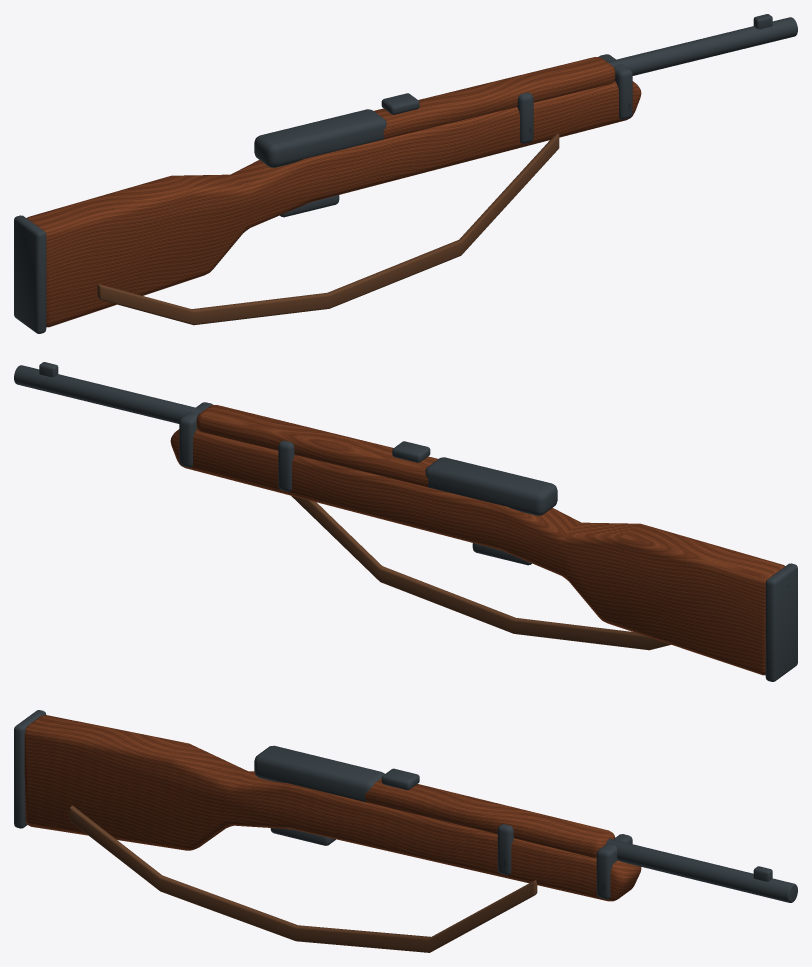
File: kar98k-exterior-wip-repeat.glb
3 renders of one model, top to bottom at view 1: azimuth 30°, elevation 25°; view 2: azimuth 150°, elevation 25°; view 3: azimuth 330°, elevation 25°, orthographic.
Parts seen in each view (by area): view 1: stock_shell, sling_visual, upper_wood_cover, closed_upper_metal_shell, solid_front_visual_no_bore, butt_cap, decorative_band.001, decorative_band, rear_top_visual_tab; view 2: stock_shell, upper_wood_cover, sling_visual, closed_upper_metal_shell, solid_front_visual_no_bore, butt_cap, decorative_band.001, decorative_band, rear_top_visual_tab; view 3: stock_shell, sling_visual, upper_wood_cover, closed_upper_metal_shell, solid_front_visual_no_bore, butt_cap, decorative_band.001, decorative_band, rear_top_visual_tab, underside_solid_detail.
Boxes of the visible parts, x1,y1,x2,y2 form: stock_shell: (26, 81, 641, 327); sling_visual: (97, 133, 559, 325); upper_wood_cover: (374, 57, 615, 139); closed_upper_metal_shell: (254, 109, 386, 167); solid_front_visual_no_bore: (607, 17, 797, 75); butt_cap: (14, 215, 46, 333); decorative_band.001: (598, 54, 632, 119); decorative_band: (517, 92, 533, 143); rear_top_visual_tab: (381, 93, 419, 114); stock_shell: (170, 429, 785, 675); upper_wood_cover: (196, 405, 437, 487); sling_visual: (291, 495, 670, 650); closed_upper_metal_shell: (425, 457, 557, 515); solid_front_visual_no_bore: (14, 365, 204, 423); butt_cap: (765, 563, 797, 681); decorative_band.001: (179, 402, 213, 467); decorative_band: (278, 440, 294, 491); rear_top_visual_tab: (392, 441, 430, 462); stock_shell: (24, 715, 641, 901); sling_visual: (69, 805, 537, 952); upper_wood_cover: (365, 778, 615, 857); closed_upper_metal_shell: (254, 745, 384, 802); solid_front_visual_no_bore: (606, 839, 797, 902); butt_cap: (14, 710, 46, 828); decorative_band.001: (596, 834, 632, 899); decorative_band: (497, 824, 513, 875); rear_top_visual_tab: (381, 768, 419, 790); underside_solid_detail: (270, 828, 335, 845).
Size of the model in its own units: 4.81 by 1.05 by 0.3255.
3 materials, 2 textured.
